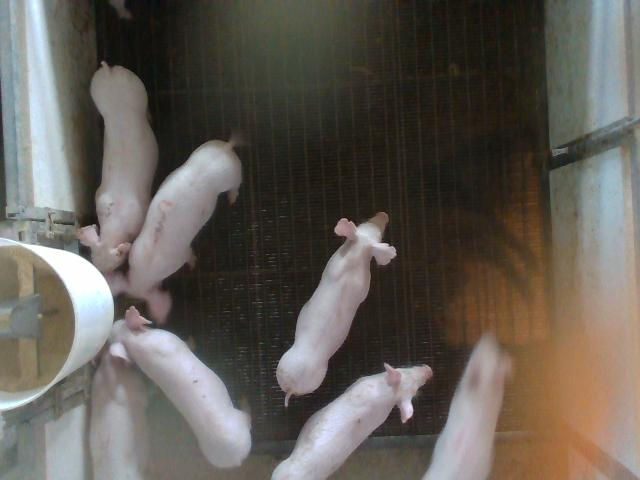pig-3: (109, 140, 241, 324)
pig-4: (424, 332, 512, 479)
